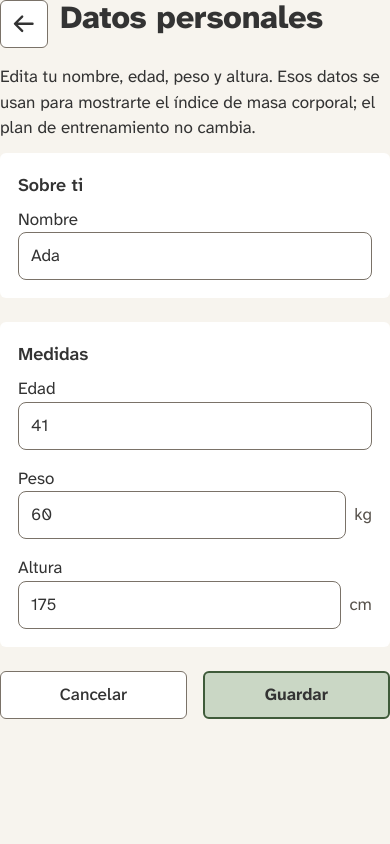
Scenario: Pagina de configuracion de datos personales › la altura en metros ya no vale: muestra el error de cm y no guarda
Replace the text in the field with id "datos-altura" with "1,75" at (180, 604), box [18,580,341,628]
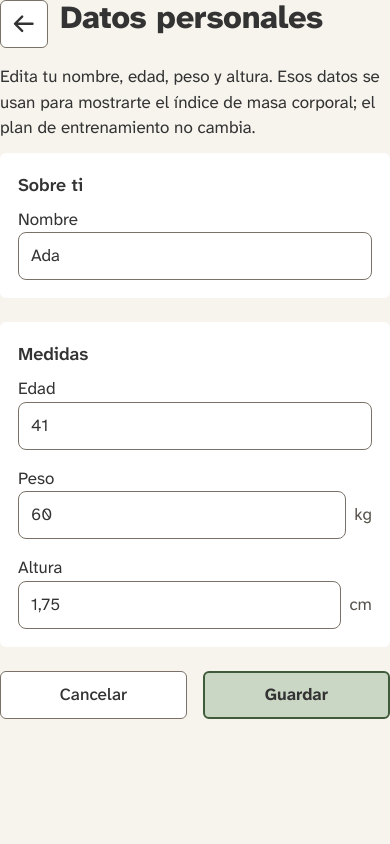
Submit the form
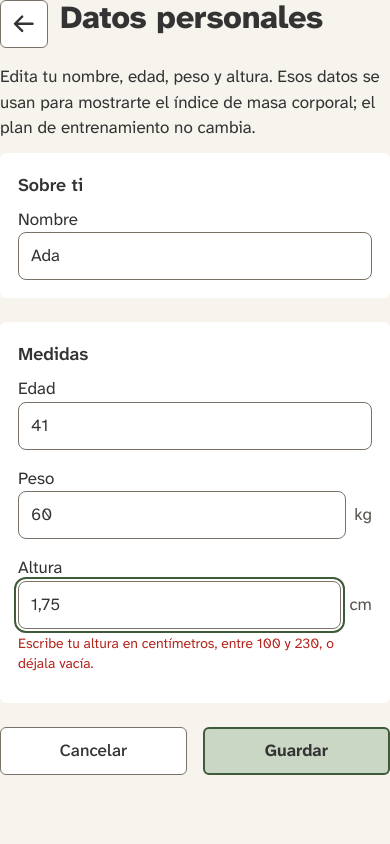
Expected: the text with id "error-datos-altura" reads "Escribe tu altura en centímetros, entre 100 y 230, o déjala vacía.", [18,634,334,672]
